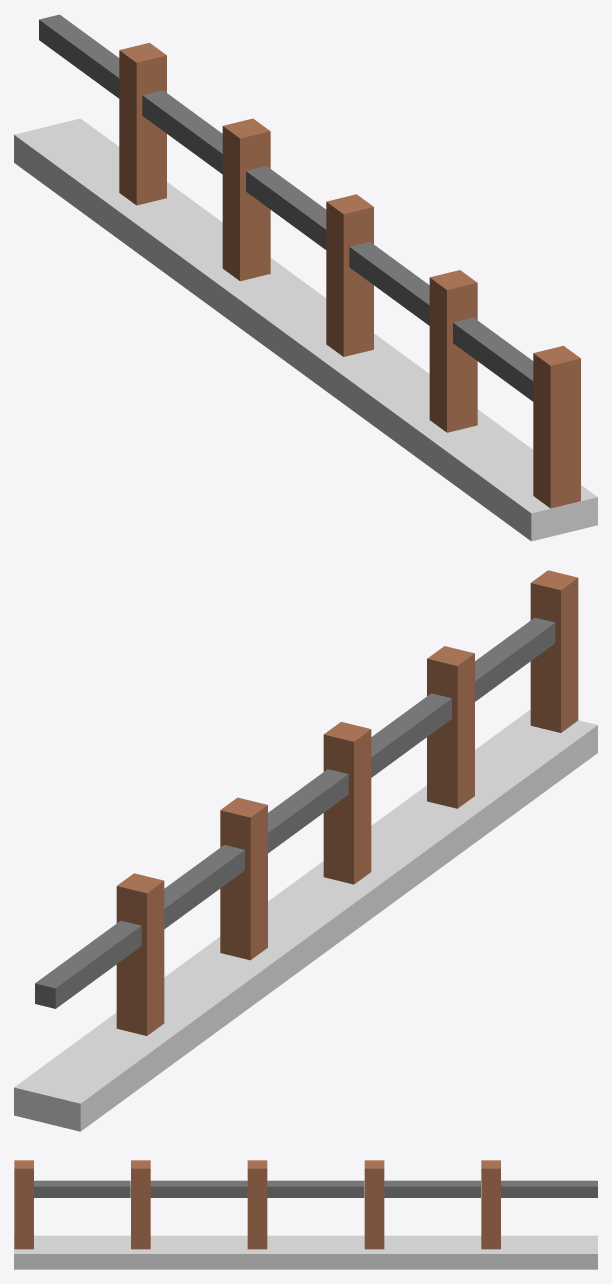
Rendered from rail2.dae.
The picture shows the model from 3 angles, top to bottom: view 1: azimuth 30°, elevation 25°; view 2: azimuth 150°, elevation 25°; view 3: azimuth 270°, elevation 25°; orthographic projection. The views are drawn at different scales.
Parts seen in each view (by area): view 1: Cube; view 2: Cube; view 3: Cube.
Part boxes in pixels (x1=…): Cube: x1=14, y1=14, x2=597, y2=541; Cube: x1=14, y1=570, x2=597, y2=1131; Cube: x1=14, y1=1160, x2=597, y2=1269.
Bounding box in the file's own units: 0.3169 × 4.27 × 0.7769.
1 material, 1 textured.
